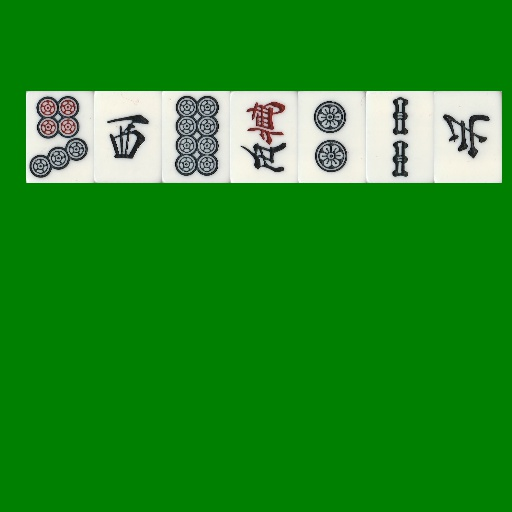2p: (298, 91, 366, 183)
2s: (366, 91, 434, 183)
5m: (230, 91, 298, 183)
7p: (26, 91, 94, 183)
8p: (162, 91, 230, 183)
north: (434, 91, 502, 183)
west: (94, 91, 162, 183)
